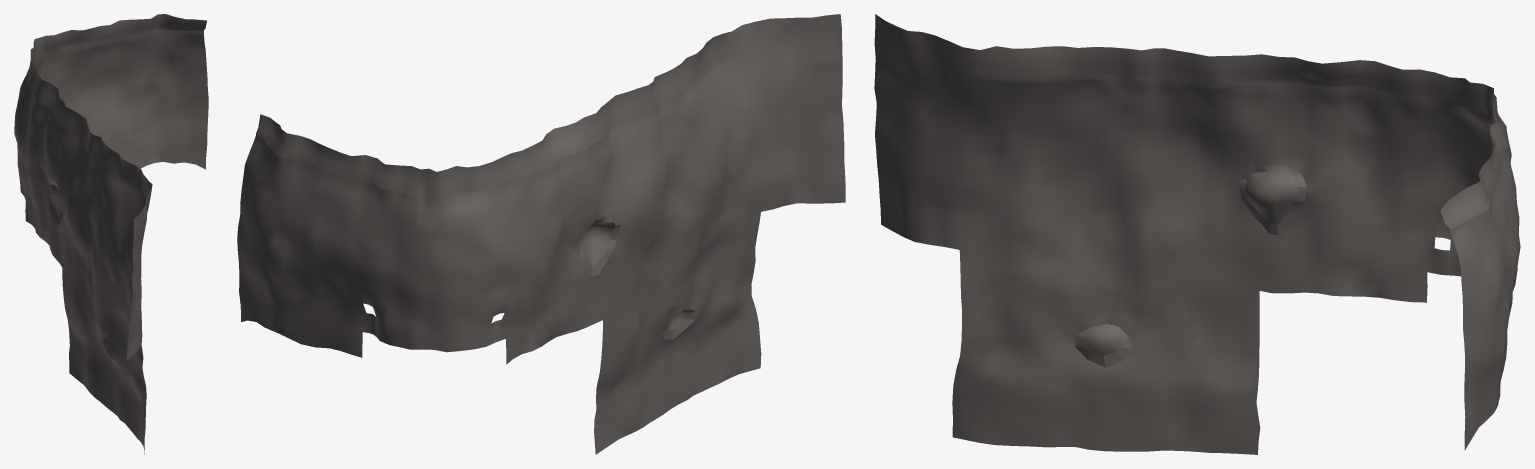
Rendered from SM_ENV_KNFRST_Wall_Ad_COL.FBX.
3 views of the same model, side by side, from view 1: azimuth 30°, elevation 25°; view 2: azimuth 150°, elevation 25°; view 3: azimuth 270°, elevation 25° (orthographic). The views are drawn at different scales.
Visible parts, largest first — view 1: SM_ENV_KNFRST_Wall_Ad_COL; view 2: SM_ENV_KNFRST_Wall_Ad_COL; view 3: SM_ENV_KNFRST_Wall_Ad_COL.
Part boxes in pixels (x1,y1,x2,y2): SM_ENV_KNFRST_Wall_Ad_COL: [14, 14, 208, 454]; SM_ENV_KNFRST_Wall_Ad_COL: [237, 14, 845, 454]; SM_ENV_KNFRST_Wall_Ad_COL: [874, 14, 1520, 454].
Size of the model in its own units: 6160 by 5698 by 8302.
